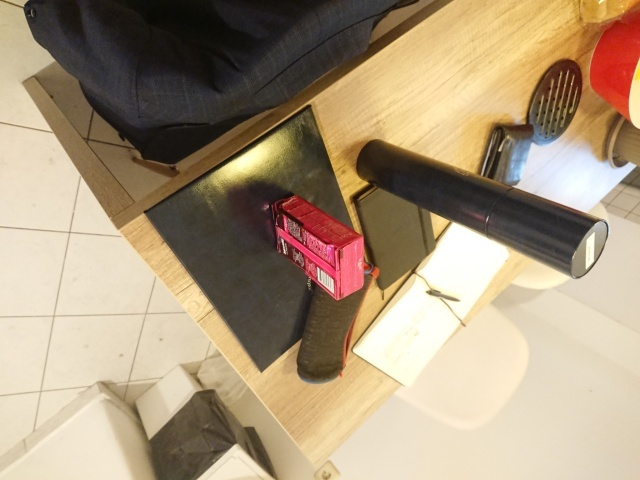Barcaffe Classic Original 225g: (268, 193, 367, 304)
